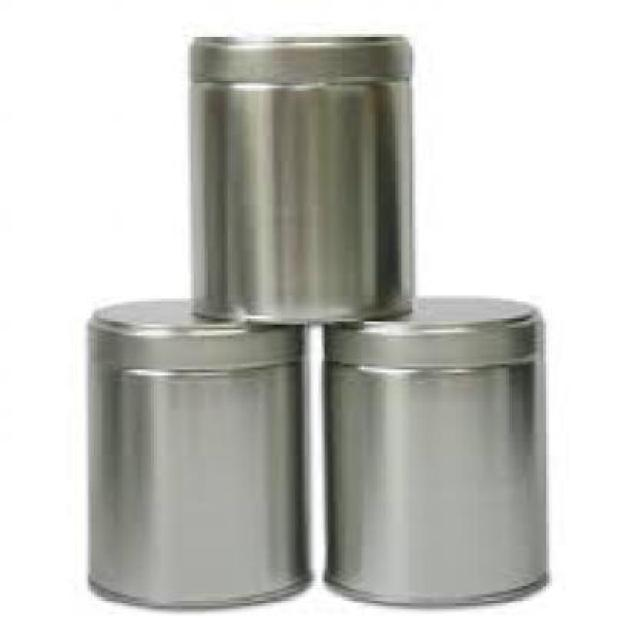METAL: (322, 292, 546, 603), (82, 302, 310, 606), (182, 31, 412, 318)
